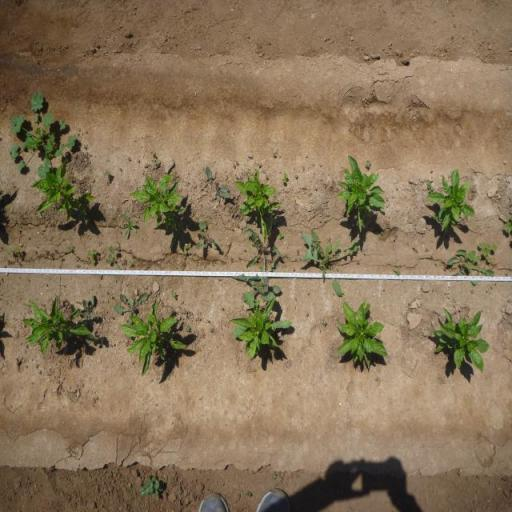plant: (117, 297, 188, 377), (426, 304, 490, 377), (333, 153, 388, 232), (28, 159, 96, 222), (21, 290, 80, 361), (335, 298, 389, 372), (425, 165, 479, 238), (234, 168, 284, 230), (238, 298, 279, 362), (135, 173, 186, 222), (446, 248, 499, 288)
weed: (5, 89, 79, 179), (300, 227, 358, 300), (243, 228, 270, 274), (239, 274, 280, 304), (204, 165, 232, 205), (138, 473, 168, 501), (115, 292, 148, 316), (74, 292, 97, 326), (196, 218, 218, 252), (169, 219, 185, 249), (105, 244, 122, 270), (478, 242, 498, 264), (122, 212, 138, 239), (270, 244, 283, 274), (84, 335, 106, 351), (86, 246, 99, 266), (503, 212, 512, 234), (6, 243, 20, 257), (183, 240, 192, 260), (102, 168, 112, 180), (244, 490, 254, 499), (426, 180, 434, 191), (282, 170, 288, 184), (6, 258, 16, 266), (48, 250, 55, 260), (152, 158, 159, 168), (66, 246, 74, 254), (364, 160, 372, 168), (322, 318, 328, 328), (170, 289, 176, 299), (272, 472, 278, 482), (127, 260, 134, 268), (412, 245, 419, 253), (278, 232, 284, 240), (185, 324, 191, 332), (121, 258, 126, 266), (393, 270, 401, 275), (393, 234, 398, 242), (150, 150, 156, 156), (424, 247, 430, 253), (294, 174, 300, 179), (210, 327, 215, 333), (144, 265, 150, 270), (272, 153, 276, 159), (98, 274, 102, 280), (296, 250, 300, 256), (356, 260, 360, 266), (235, 160, 239, 166)
